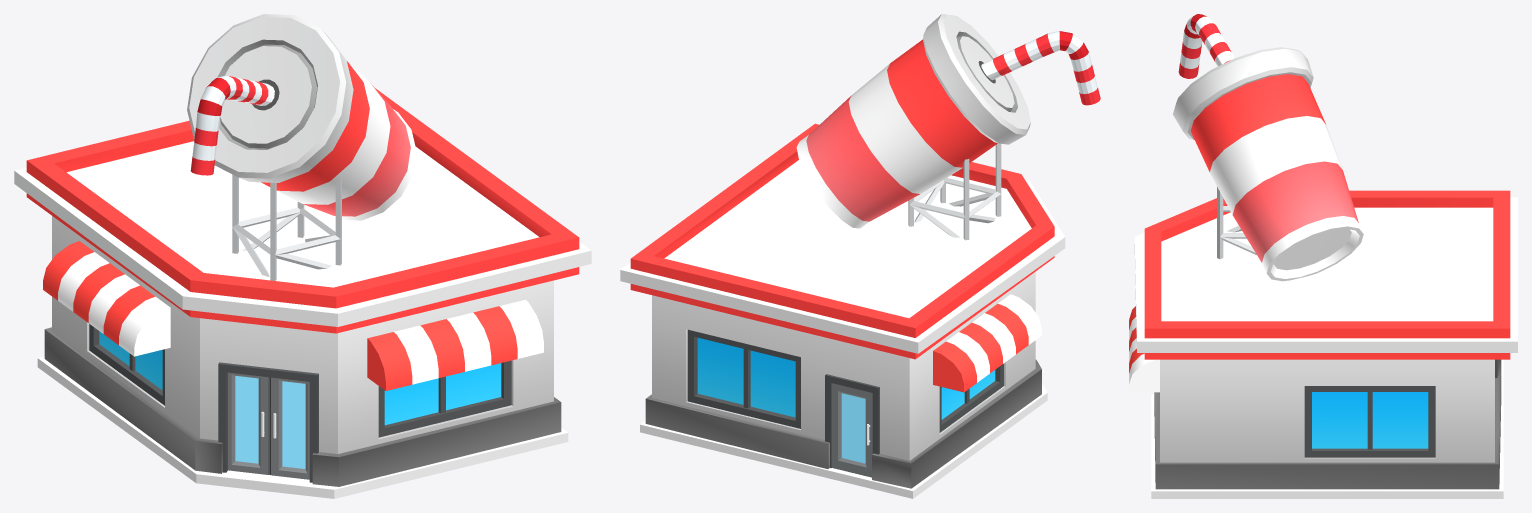
Rendered from Building_Snack_08.glb.
3 views of the same model, side by side, from view 1: azimuth 30°, elevation 25°; view 2: azimuth 150°, elevation 25°; view 3: azimuth 270°, elevation 25° (orthographic). The views are drawn at different scales.
Parts seen in each view (by area): view 1: Building_Snack_08; view 2: Building_Snack_08; view 3: Building_Snack_08.
Boxes of the visible parts, x1,y1,x2,y2 form: Building_Snack_08: (14,14,591,498); Building_Snack_08: (620,14,1100,498); Building_Snack_08: (1129,14,1517,498).
Size of the model in its own units: 8.26 by 9.19 by 8.96.
Materials: 1 (1 with a texture image).
